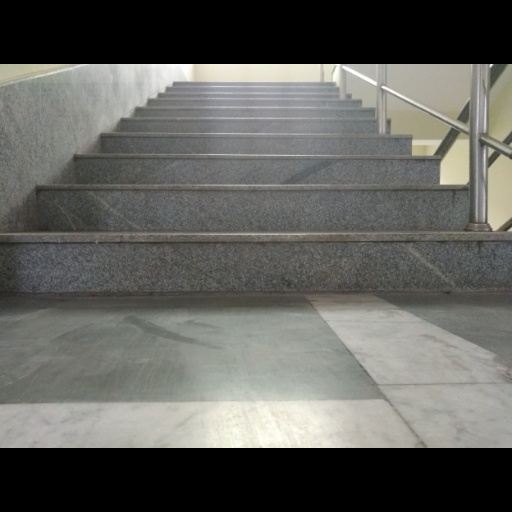Stairs: (0, 83, 512, 292)
